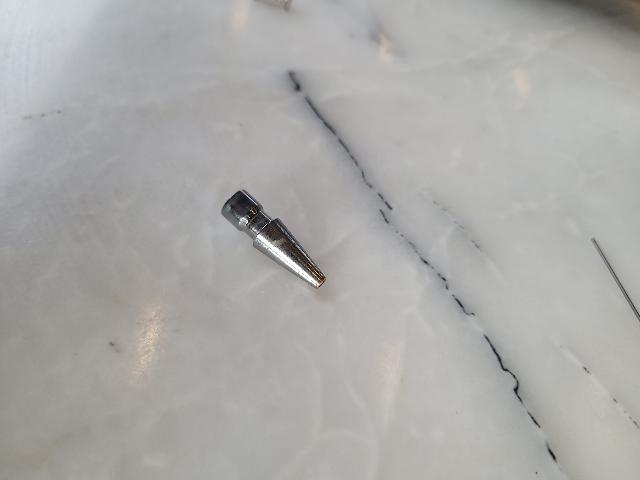Metal: (224, 181, 326, 290)
